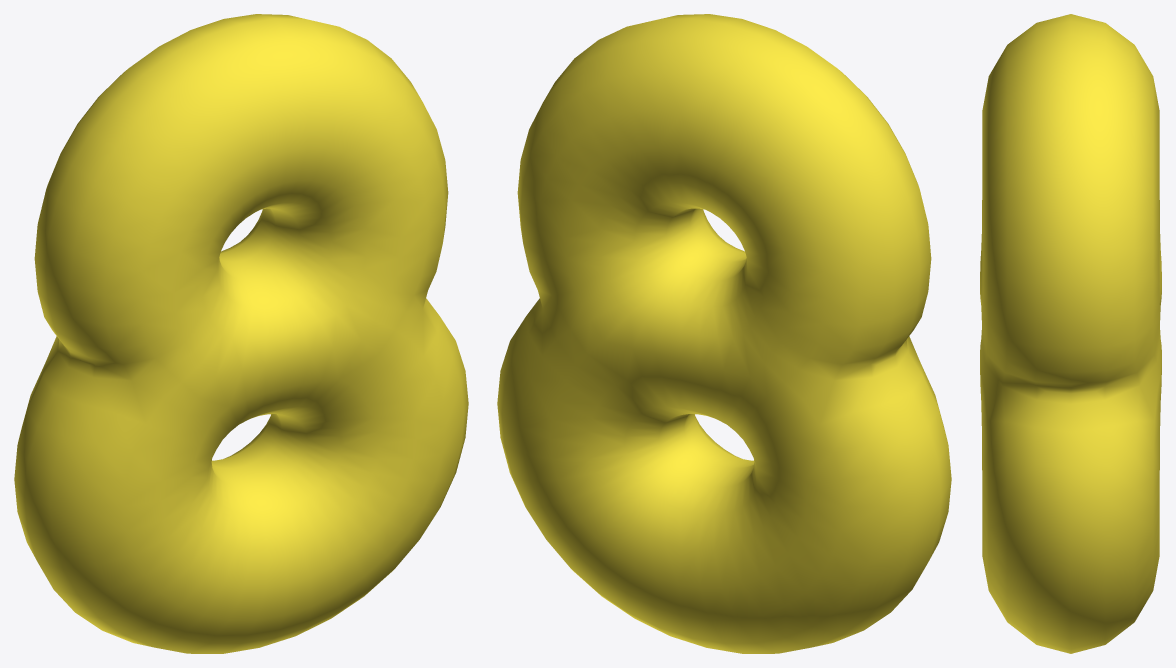
3 renders of one model, left to right at view 1: azimuth 30°, elevation 25°; view 2: azimuth 150°, elevation 25°; view 3: azimuth 270°, elevation 25°, orthographic. The views are drawn at different scales.
Visible parts, largest first — view 1: 8_wire_115115115_0; view 2: 8_wire_115115115_0; view 3: 8_wire_115115115_0.
Boxes of the visible parts, x1=… form: 8_wire_115115115_0: x1=14, y1=14, x2=468, y2=653; 8_wire_115115115_0: x1=497, y1=14, x2=951, y2=653; 8_wire_115115115_0: x1=980, y1=14, x2=1161, y2=653.
Bounding box in the file's own units: 39.49 × 53.82 × 14.93.
